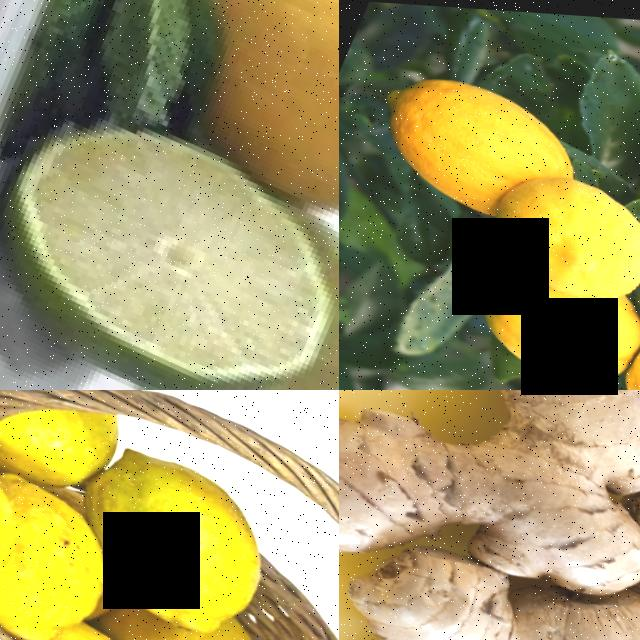ginger: (339, 390, 640, 640)
lemon: (0, 76, 339, 390), (95, 437, 294, 640), (187, 0, 339, 252), (356, 40, 544, 220), (478, 145, 640, 318), (456, 252, 640, 390), (0, 462, 129, 639), (127, 606, 275, 640)
